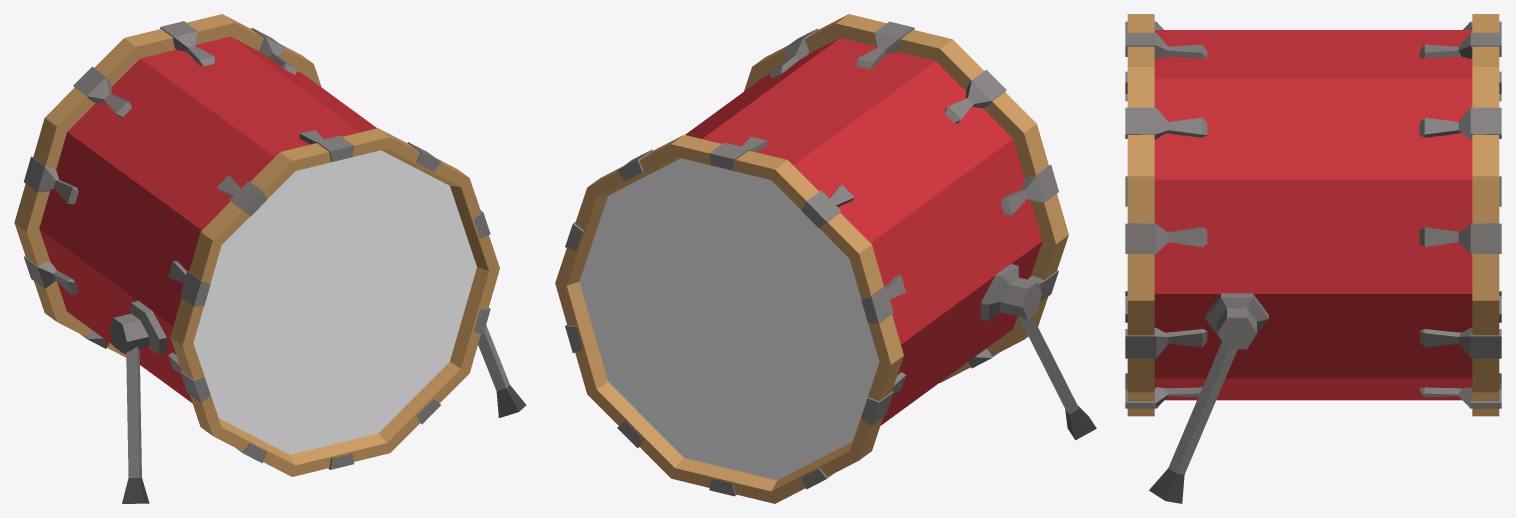
The model's file is drum-bass.fbx.
3 views of the same model, side by side, from view 1: azimuth 30°, elevation 25°; view 2: azimuth 150°, elevation 25°; view 3: azimuth 270°, elevation 25° (orthographic). The views are drawn at different scales.
Parts seen in each view (by area): view 1: drum-bass; view 2: drum-bass; view 3: drum-bass.
Boxes of the visible parts, x1,y1,x2,y2 form: drum-bass: [14, 14, 526, 503]; drum-bass: [555, 14, 1096, 503]; drum-bass: [1125, 14, 1501, 503].
Bounding box in the file's own units: 0.7646 × 0.5921 × 0.5568.
